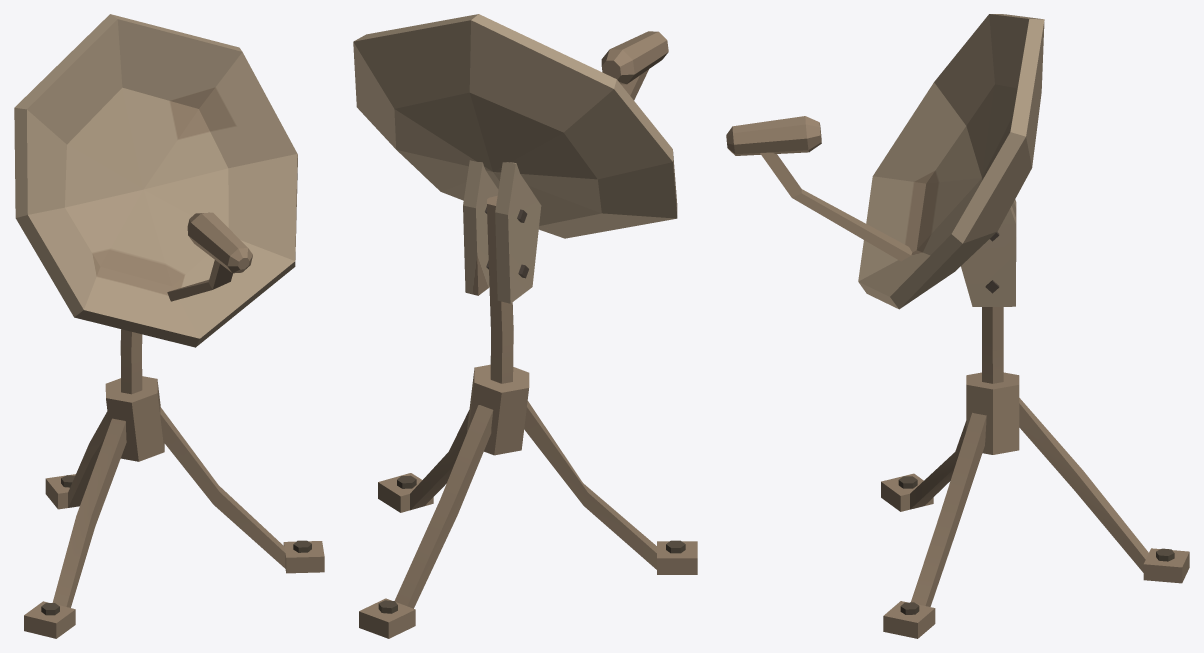
File: SM_Prop_Satellite_Dish_02.glb
The picture shows the model from 3 angles, left to right: view 1: azimuth 30°, elevation 25°; view 2: azimuth 150°, elevation 25°; view 3: azimuth 270°, elevation 25°; orthographic projection. The views are drawn at different scales.
Parts seen in each view (by area): view 1: SM_Prop_Satellite_Dish_02; view 2: SM_Prop_Satellite_Dish_02; view 3: SM_Prop_Satellite_Dish_02.
Part boxes in pixels (x1,y1,x2,y2): SM_Prop_Satellite_Dish_02: (14, 14, 324, 638); SM_Prop_Satellite_Dish_02: (353, 14, 697, 638); SM_Prop_Satellite_Dish_02: (726, 14, 1189, 638).
Bounding box in the file's own units: 1.26 × 2.14 × 1.65.
Materials: 1 (1 with a texture image).
